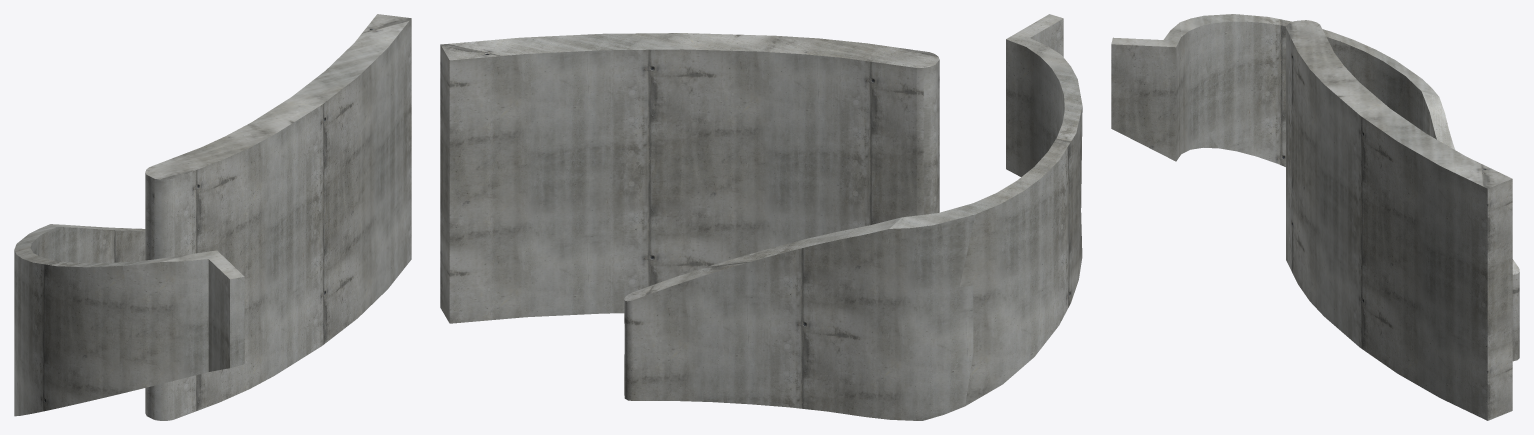
The model's file is StairConcrete.fbx.
The picture shows the model from 3 angles, left to right: view 1: azimuth 30°, elevation 25°; view 2: azimuth 150°, elevation 25°; view 3: azimuth 270°, elevation 25°; orthographic projection. The views are drawn at different scales.
Visible parts, largest first — view 1: 物件_2, 物件_1; view 2: 物件_2, 物件_1; view 3: 物件_2, 物件_1.
Part boxes in pixels (box(x1,y1,x2,y2)): 物件_2: box(145, 14, 411, 420); 物件_1: box(14, 224, 244, 416); 物件_2: box(440, 33, 939, 323); 物件_1: box(624, 14, 1082, 420); 物件_2: box(1286, 20, 1512, 420); 物件_1: box(1111, 14, 1519, 361).
Bounding box in the file's own units: 13.53 × 7.33 × 10.52.
1 material, 1 textured.
